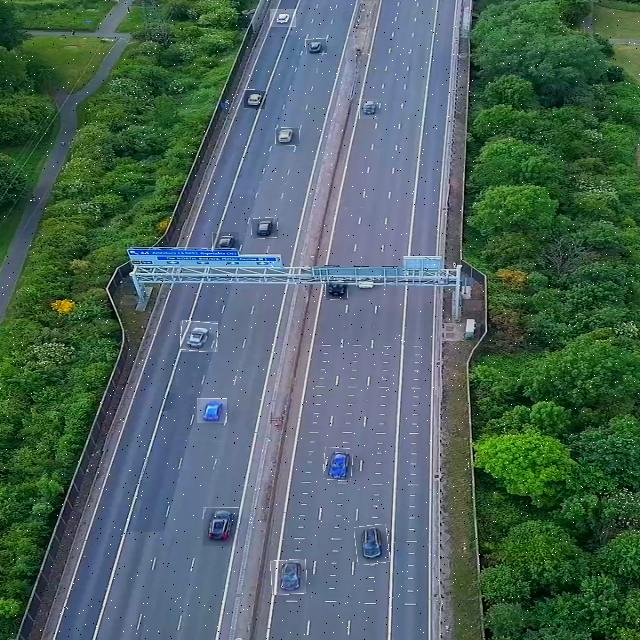Car: (203, 507, 239, 546), (355, 526, 389, 564), (271, 560, 306, 594), (180, 321, 218, 352), (323, 448, 353, 481), (197, 398, 227, 423), (251, 218, 278, 239), (212, 232, 239, 252), (270, 9, 296, 27), (276, 128, 300, 146), (244, 90, 266, 109), (326, 282, 348, 300), (359, 99, 378, 119), (306, 39, 327, 54)
